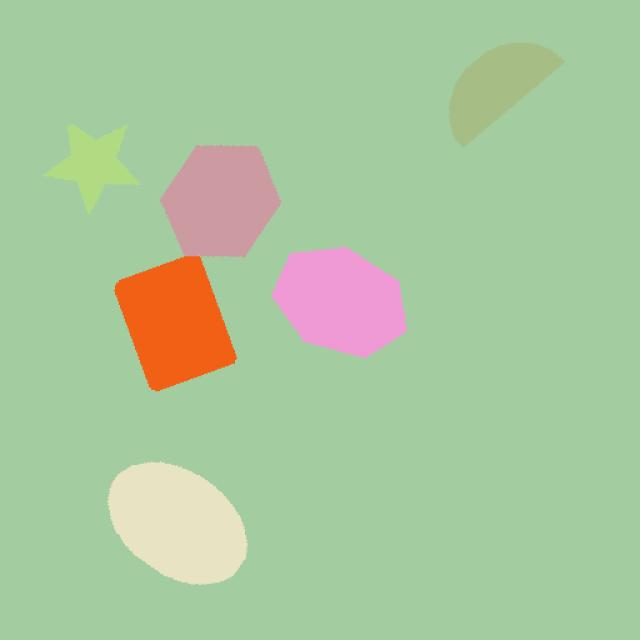Heptagon: (266, 226, 424, 370)
Hexagon: (156, 124, 288, 270)
Oval: (78, 447, 265, 604)
Rectangle: (107, 256, 265, 425)
Semicircle: (442, 11, 579, 170)
Star: (35, 105, 147, 228)
